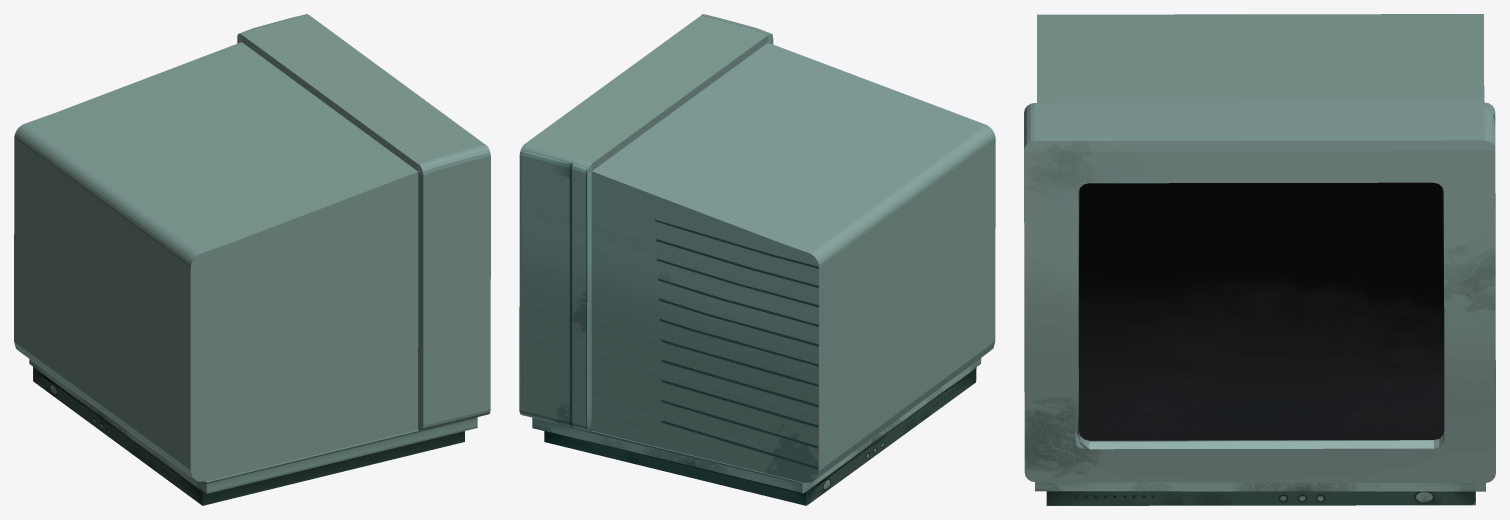
Rendered from ComputerScreenNewNew.fbx.
3 views of the same model, side by side, from view 1: azimuth 30°, elevation 25°; view 2: azimuth 150°, elevation 25°; view 3: azimuth 270°, elevation 25° (orthographic). The views are drawn at different scales.
Parts seen in each view (by area): view 1: ComputerScreenTexture; view 2: ComputerScreenTexture; view 3: ComputerScreenTexture.
Boxes of the visible parts, x1,y1,x2,y2 form: ComputerScreenTexture: (14,14,490,505); ComputerScreenTexture: (519,14,995,505); ComputerScreenTexture: (1024,14,1495,505).
Size of the model in its own units: 85.17 by 81.85 by 93.17.
1 material, 1 textured.
